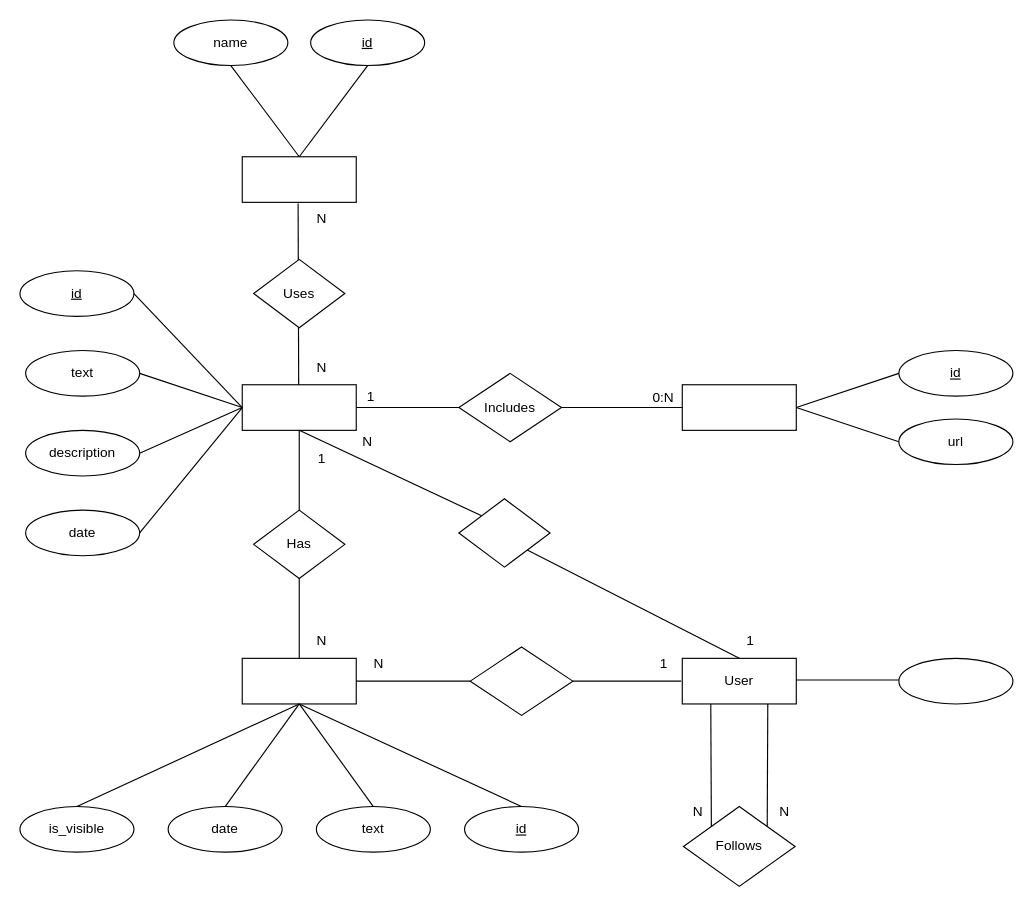
Image size: 1033x906. Some labels were removed from this diagram. The shapes that lost their labels are listed below. From the top down, each one's centre as x and y in pixels, then its label:
point 298,179: Tag
point 298,407: Post
point 738,407: Post_image
point 504,532: Creates
point 298,680: Comment
point 521,680: Writes
point 955,680: nickname
